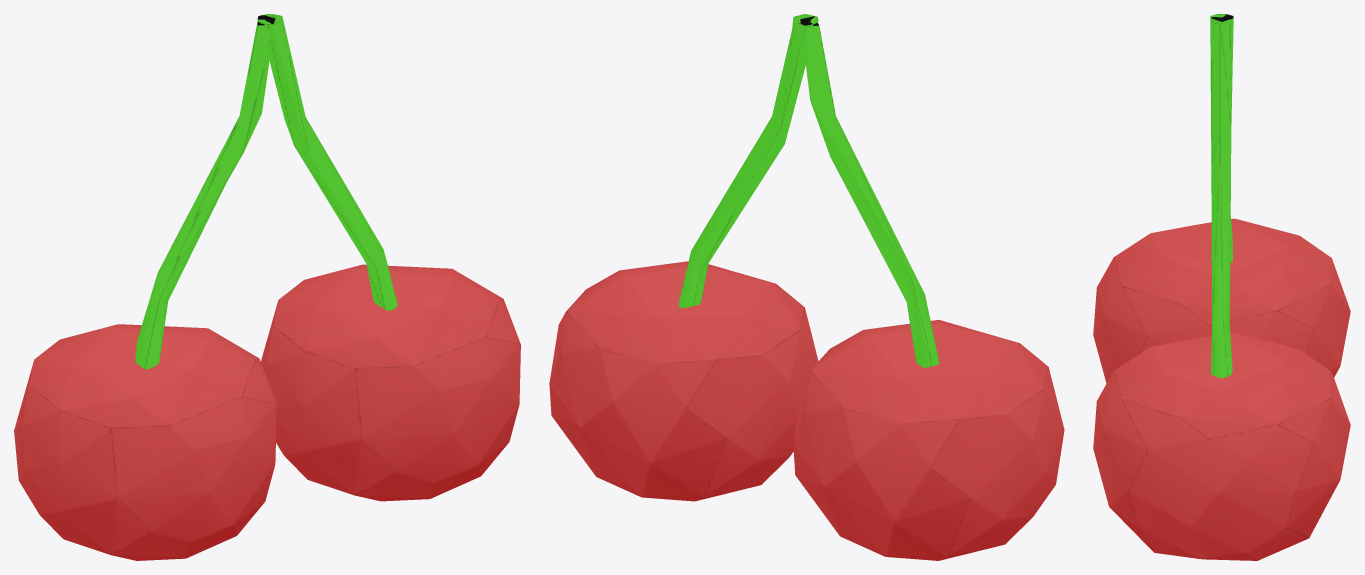
Rendered from DoubleCherry.fbx.
3 views of the same model, side by side, from view 1: azimuth 30°, elevation 25°; view 2: azimuth 150°, elevation 25°; view 3: azimuth 270°, elevation 25° (orthographic). The views are drawn at different scales.
Visible parts, largest first — view 1: DoubleCherry; view 2: DoubleCherry; view 3: DoubleCherry.
Part boxes in pixels (x1=…): DoubleCherry: x1=14, y1=14, x2=520, y2=560; DoubleCherry: x1=549, y1=14, x2=1064, y2=560; DoubleCherry: x1=1093, y1=14, x2=1350, y2=560.
Bounding box in the file's own units: 390 × 380 × 189.
